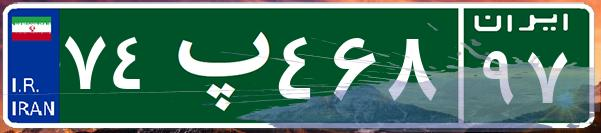4: (273, 28, 330, 110), (110, 28, 158, 105)
6: (330, 28, 385, 110)
7: (57, 26, 110, 107), (525, 38, 570, 115)
8: (385, 28, 445, 110)
9: (475, 38, 525, 113)
پ: (158, 15, 273, 115)
